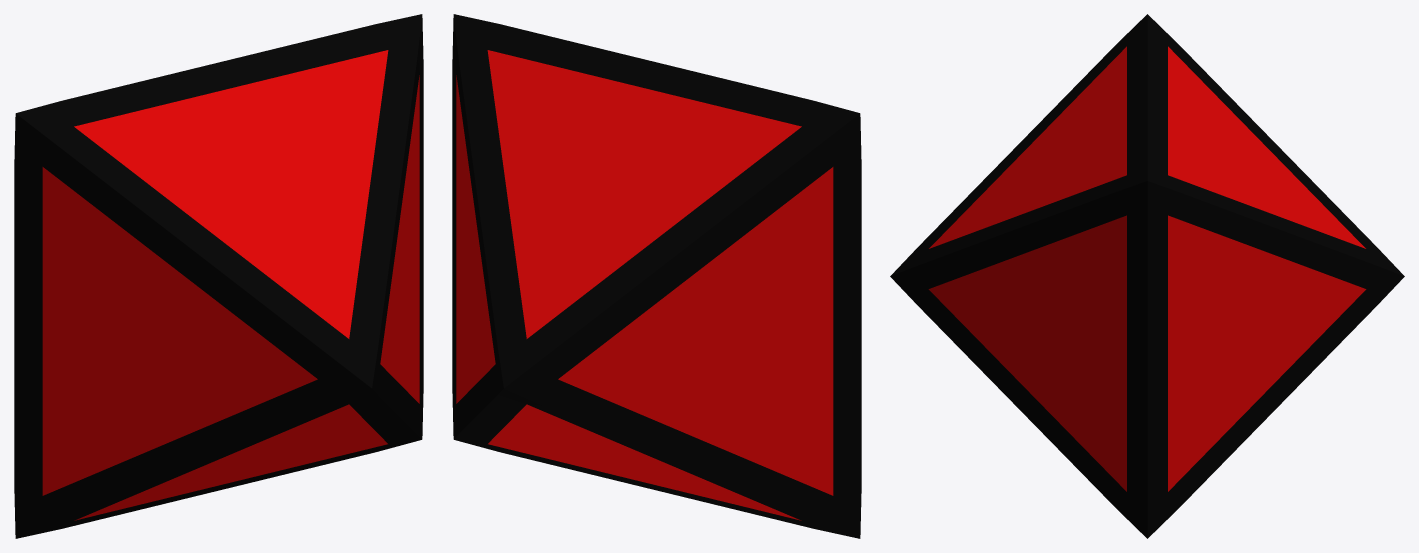
File: Color_Change.fbx
3 views of the same model, side by side, from view 1: azimuth 30°, elevation 25°; view 2: azimuth 150°, elevation 25°; view 3: azimuth 270°, elevation 25° (orthographic). The views are drawn at different scales.
Parts seen in each view (by area): view 1: Color_Change; view 2: Color_Change; view 3: Color_Change.
Boxes of the visible parts, box(x1,y1,x2,y2) form: Color_Change: box(14, 14, 423, 538); Color_Change: box(452, 14, 861, 538); Color_Change: box(890, 14, 1404, 538).
Bounding box in the file's own units: 0.3852 × 0.3852 × 0.4992.
